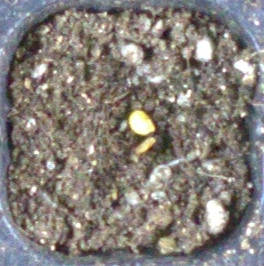pepper seed: (56, 59, 213, 215), (49, 42, 206, 178)
